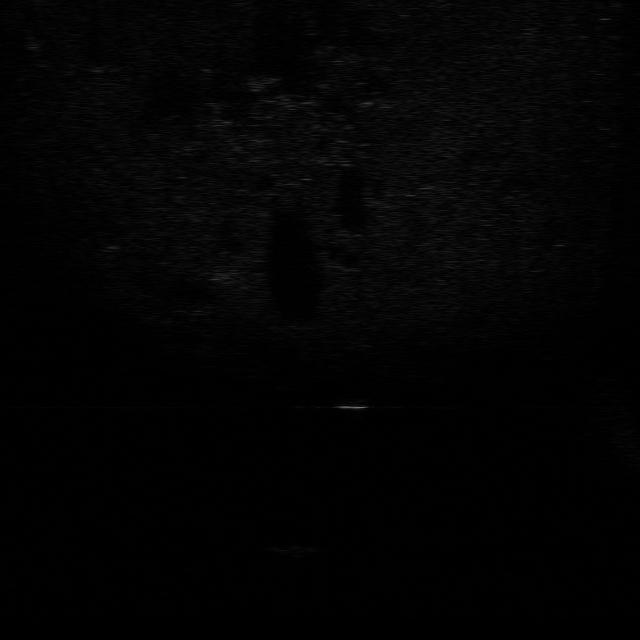cube: (262, 536, 320, 560)
square cage: (326, 396, 379, 414)
